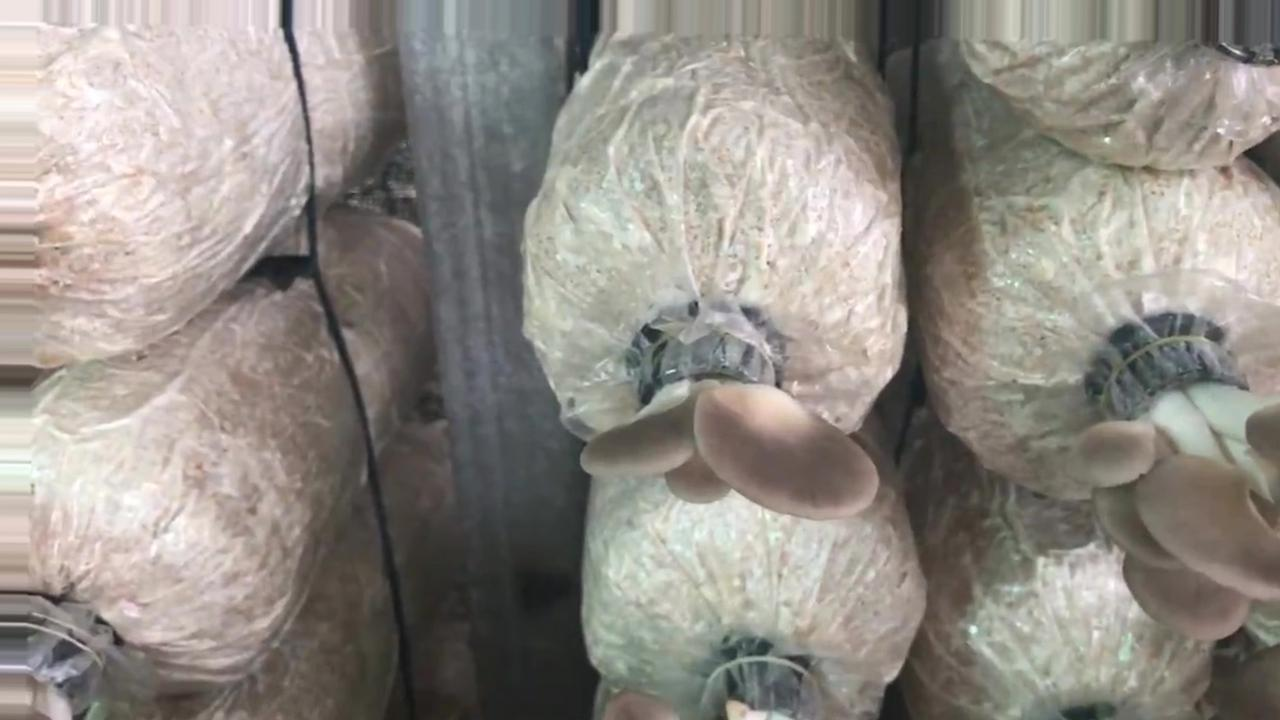nam: (1099, 327, 1280, 621), (600, 310, 863, 505)
